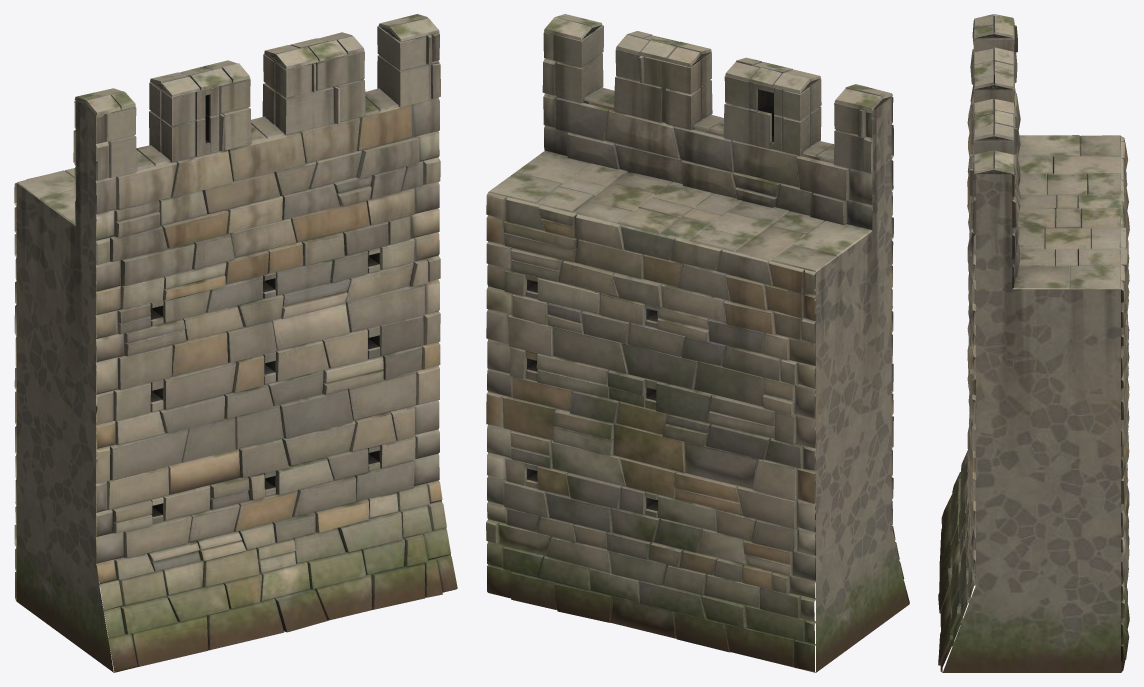
File: wall_stone_straight_b.glb
3 views of the same model, side by side, from view 1: azimuth 30°, elevation 25°; view 2: azimuth 150°, elevation 25°; view 3: azimuth 270°, elevation 25° (orthographic). The views are drawn at different scales.
Parts seen in each view (by area): view 1: wall_stone_straight_b_LOD0; view 2: wall_stone_straight_b_LOD0; view 3: wall_stone_straight_b_LOD0.
Boxes of the visible parts, x1,y1,x2,y2 form: wall_stone_straight_b_LOD0: (14,14,457,672); wall_stone_straight_b_LOD0: (486,14,909,672); wall_stone_straight_b_LOD0: (938,14,1129,672).
Size of what is drawn, in the model's own units: 6 by 9.23 by 3.17.
Materials: 1 (1 with a texture image).
